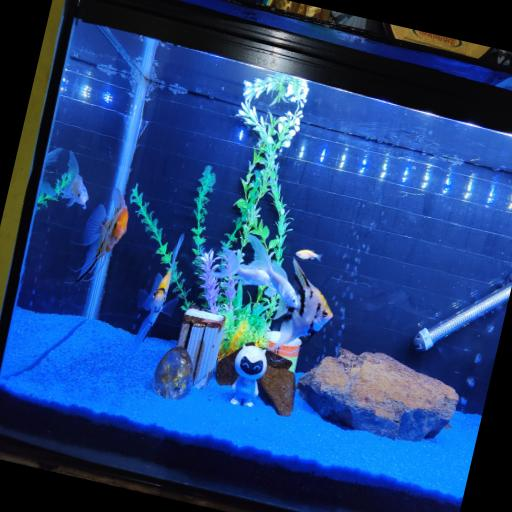Fish: (128, 234, 184, 354), (273, 260, 332, 348), (74, 189, 128, 284), (248, 235, 299, 308), (137, 234, 184, 310), (214, 248, 271, 285), (62, 151, 88, 209), (45, 148, 62, 168), (45, 148, 62, 167), (296, 250, 322, 262)
